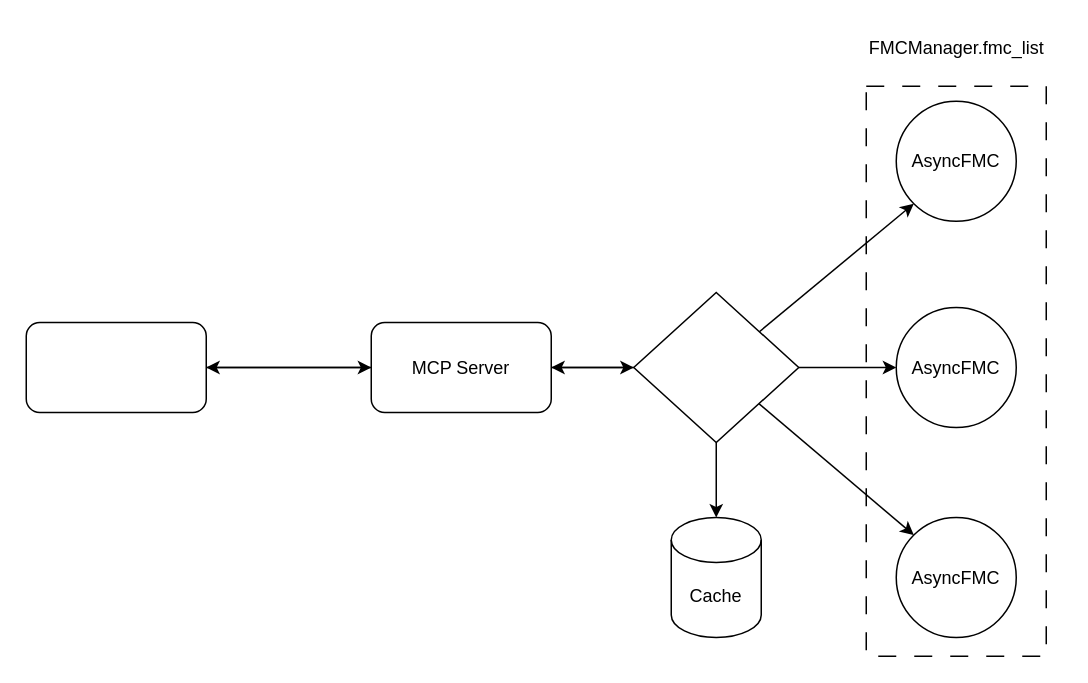
Some shapes in this 1088 by 683 pixel diagram are drawn without their labels. Each missing label, with the centre of its shape:
"FMCManager" belongs at (x=715, y=366).
"MCP Client" belongs at (x=115, y=366).
